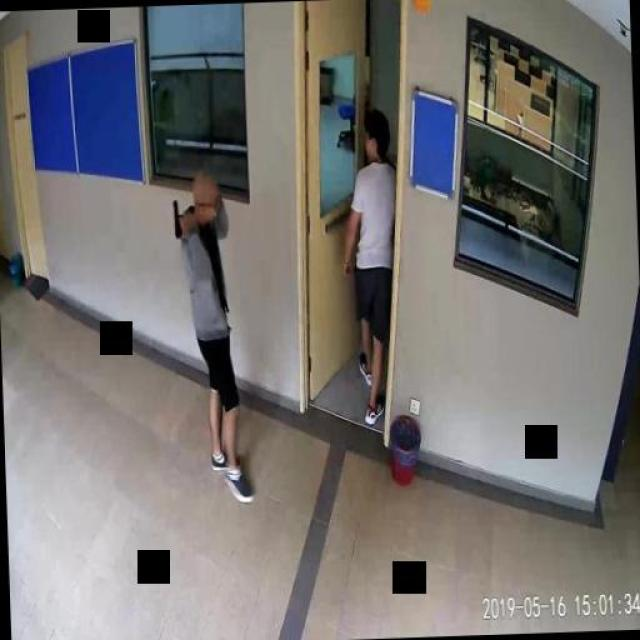gun: (171, 194, 194, 238)
